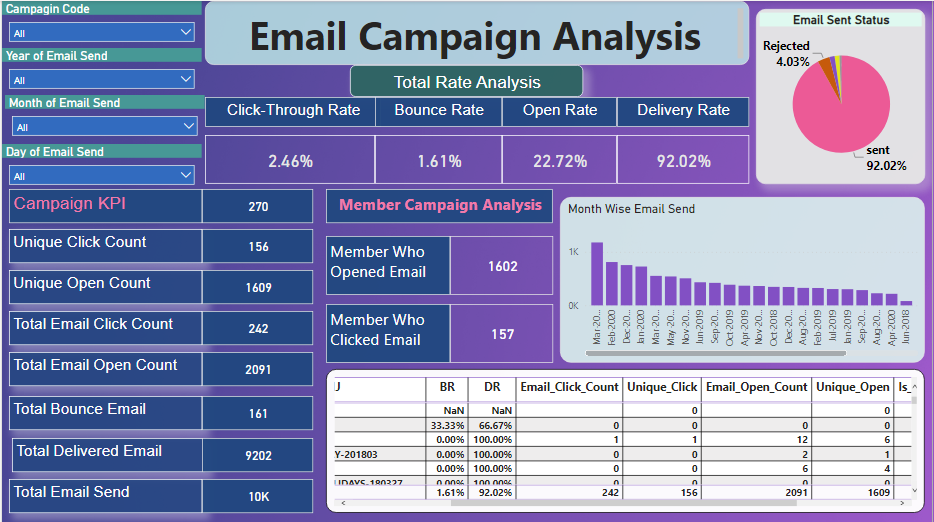

What the dashboard file says about the page in this screenshot:
{"tool":"powerbi","page":{"name":"Page 1","canvas":[1280,720],"ordinal":0},"visuals":[{"type":"textbox","box":[279.4,0,748.7,88.1],"z":0},{"type":"slicer","title":"Campagin Code","fields":{"Values":["TBL_Communication.CampaignCodJ"]},"box":[0,0,275.3,64.7],"z":1000},{"type":"slicer","title":"Year of Email Send","fields":{"Values":["TBL_Communication.Email_SentDate.Variation.Date Hierarchy.Year"]},"box":[0,64.7,275.3,64.7],"z":2000},{"type":"slicer","title":"Month of Email Send","fields":{"Values":["TBL_Communication.Email_SentDate.Variation.Date Hierarchy.Month"]},"box":[4.1,129.4,275.3,59.2],"z":3000},{"type":"slicer","title":"Day of Email Send","fields":{"Values":["TBL_Communication.Email_SentDate.Variation.Date Hierarchy.Day"]},"box":[0,196.8,275.3,61.9],"z":4000},{"type":"textbox","box":[479,88.1,320.7,44],"z":5000},{"type":"textbox","box":[279.4,132.1,242.2,41.3],"z":6000},{"type":"textbox","box":[513.4,132.1,174.8,41.3],"z":7000},{"type":"textbox","box":[688.2,132.1,158.3,41.3],"z":8000},{"type":"textbox","box":[9.6,258.8,265.6,46.8],"z":9000},{"type":"textbox","box":[9.6,313.8,265.6,46.8],"z":10000},{"type":"textbox","box":[9.6,370.2,265.6,46.8],"z":11000},{"type":"textbox","box":[9.6,426.7,265.6,46.8],"z":12000},{"type":"textbox","box":[9.6,483.1,265.6,46.8],"z":13000},{"type":"textbox","box":[9.6,543.7,265.6,46.8],"z":14000},{"type":"textbox","box":[13.8,601.5,265.6,46.8],"z":15000},{"type":"textbox","box":[9.6,657.9,265.6,46.8],"z":16000},{"type":"card","fields":{"Values":["Count(TBL_Communication.CampaignCodJ)"]},"box":[275.3,258.8,152.8,46.8],"z":17000},{"type":"card","fields":{"Values":["Sum(TBL_Communication.Unique_Click)"]},"box":[275.3,313.8,152.8,46.8],"z":18000},{"type":"card","fields":{"Values":["Sum(TBL_Communication.Unique_Open)"]},"box":[275.3,370.2,152.8,46.8],"z":19000},{"type":"card","fields":{"Values":["Sum(TBL_Communication.Email_Click_Count)"]},"box":[275.3,426.7,152.8,46.8],"z":20000},{"type":"card","fields":{"Values":["Sum(TBL_Communication.Email_Open_Count)"]},"box":[275.3,483.1,152.8,46.8],"z":21000},{"type":"card","fields":{"Values":["Sum(TBL_Communication.Bounced_Email)"]},"box":[275.3,543.7,152.8,46.8],"z":22000},{"type":"card","fields":{"Values":["Sum(TBL_Communication.Delivered_Email)"]},"box":[275.3,601.5,152.8,46.8],"z":23000},{"type":"card","fields":{"Values":["Sum(TBL_Communication.Is_Email_Sent)"]},"box":[275.3,657.9,152.8,46.8],"z":24000},{"type":"card","fields":{"Values":["Sum(TBL_Communication.CTR)"]},"box":[279.4,184.4,234,67.4],"z":25000},{"type":"card","fields":{"Values":["TBL_Communication.BR"]},"box":[513.4,184.4,174.8,67.4],"z":26000},{"type":"card","fields":{"Values":["TBL_Communication.OR"]},"box":[688.2,184.4,158.3,67.4],"z":27000},{"type":"textbox","box":[846.5,132.1,181.7,41.3],"z":28000},{"type":"card","fields":{"Values":["TBL_Communication.DR"]},"box":[846.5,184.4,181.7,67.4],"z":29000},{"type":"textbox","box":[445.9,258.8,312.4,46.8],"z":30000},{"type":"textbox","box":[445.9,323.4,170.7,81.2],"z":31000},{"type":"textbox","box":[445.9,417,170.7,81.2],"z":32000},{"type":"card","fields":{"Values":["Count(TBL_Communication.Member_Open)"]},"box":[616.6,323.4,141.8,81.2],"z":33000},{"type":"card","fields":{"Values":["Count(TBL_Communication.Member_Clicked)"]},"box":[616.6,417,141.8,81.2],"z":34000},{"type":"pieChart","title":"Email Sent Status","fields":{"Category":["TBL_Communication.Email_Sent_Status"],"Y":["CountNonNull(TBL_Communication.CampaignCodJ)"]},"box":[1037.8,11,232.6,240.9],"z":35000},{"type":"clusteredColumnChart","title":"Month Wise Email Send","fields":{"Category":["TBL_Communication.Month_Year"],"Y":["Sum(TBL_Communication.Is_Email_Sent)"]},"box":[768,269.8,502.4,228.5],"z":36000},{"type":"tableEx","fields":{"Values":["TBL_Communication.CampaignCodJ","TBL_Communication.BR","TBL_Communication.DR","Sum(TBL_Communication.Email_Click_Count)","Sum(TBL_Communication.Unique_Click)","Sum(TBL_Communication.Email_Open_Count)","Sum(TBL_Communication.Unique_Open)","Sum(TBL_Communication.Is_Email_Sent)","Sum(TBL_Communication.Delivered_Email)"]},"box":[445.9,506.5,824.4,198.2],"z":37000}]}

Visuals, with their boxes in screenshot pixels (x1, y1, x2, y2), scaled from the page's 1280x720 canvas onto the 934x522 screenshot:
textbox: [204, 0, 750, 64]
"Campagin Code" slicer: [0, 0, 201, 47]
"Year of Email Send" slicer: [0, 47, 201, 94]
"Month of Email Send" slicer: [3, 94, 204, 137]
"Day of Email Send" slicer: [0, 143, 201, 188]
textbox: [350, 64, 584, 96]
textbox: [204, 96, 381, 126]
textbox: [375, 96, 502, 126]
textbox: [502, 96, 618, 126]
textbox: [7, 188, 201, 222]
textbox: [7, 228, 201, 261]
textbox: [7, 268, 201, 302]
textbox: [7, 309, 201, 343]
textbox: [7, 350, 201, 384]
textbox: [7, 394, 201, 428]
textbox: [10, 436, 204, 470]
textbox: [7, 477, 201, 511]
card - Count(TBL_Communication.CampaignCodJ): [201, 188, 312, 222]
card - Sum(TBL_Communication.Unique_Click): [201, 228, 312, 261]
card - Sum(TBL_Communication.Unique_Open): [201, 268, 312, 302]
card - Sum(TBL_Communication.Email_Click_Count): [201, 309, 312, 343]
card - Sum(TBL_Communication.Email_Open_Count): [201, 350, 312, 384]
card - Sum(TBL_Communication.Bounced_Email): [201, 394, 312, 428]
card - Sum(TBL_Communication.Delivered_Email): [201, 436, 312, 470]
card - Sum(TBL_Communication.Is_Email_Sent): [201, 477, 312, 511]
card - Sum(TBL_Communication.CTR): [204, 134, 375, 183]
card - TBL_Communication.BR: [375, 134, 502, 183]
card - TBL_Communication.OR: [502, 134, 618, 183]
textbox: [618, 96, 750, 126]
card - TBL_Communication.DR: [618, 134, 750, 183]
textbox: [325, 188, 553, 222]
textbox: [325, 234, 450, 293]
textbox: [325, 302, 450, 361]
card - Count(TBL_Communication.Member_Open): [450, 234, 553, 293]
card - Count(TBL_Communication.Member_Clicked): [450, 302, 553, 361]
"Email Sent Status" pieChart: [757, 8, 927, 183]
"Month Wise Email Send" clusteredColumnChart: [560, 196, 927, 361]
tableEx - TBL_Communication.CampaignCodJ x TBL_Communication.BR: [325, 367, 927, 511]
